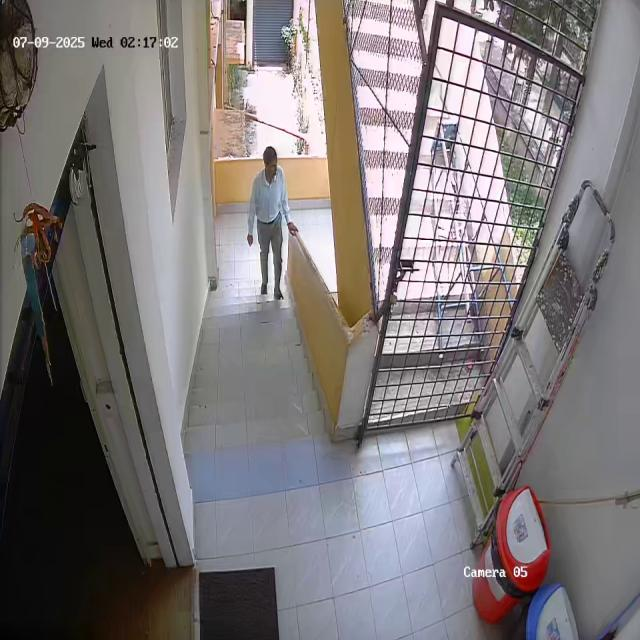person: (247, 144, 294, 300)
